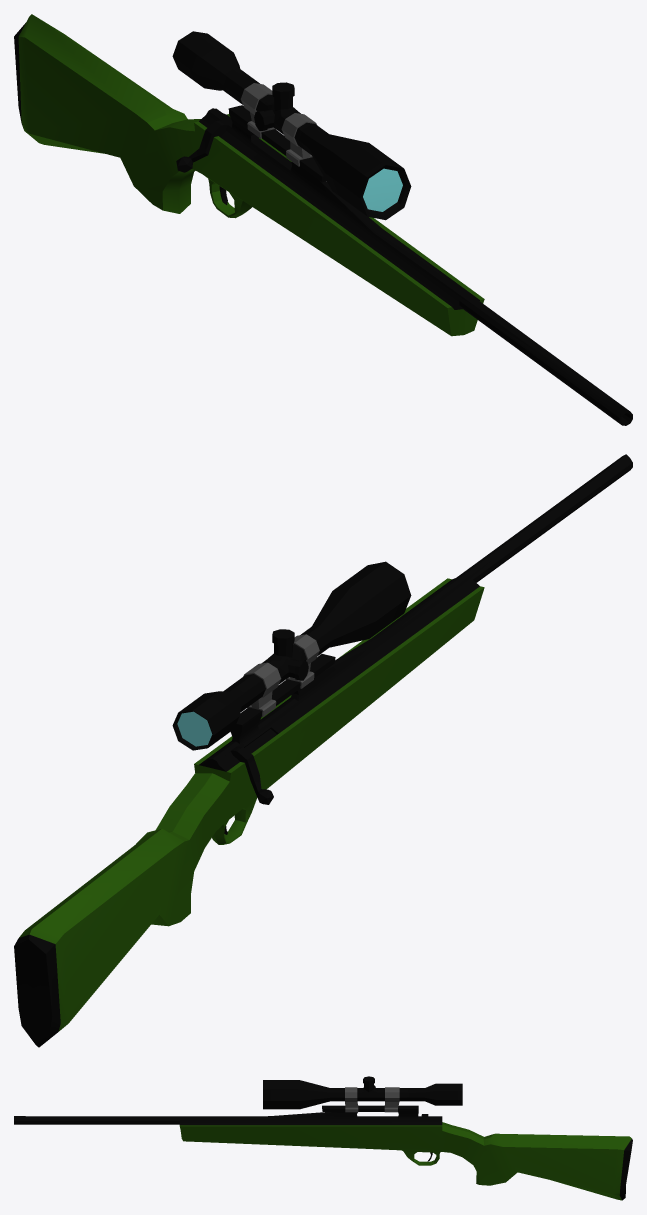
Rendered from lowpoly_sniper_rifle.glb.
3 views of the same model, one above another, from view 1: azimuth 30°, elevation 25°; view 2: azimuth 150°, elevation 25°; view 3: azimuth 270°, elevation 25° (orthographic). The views are drawn at different scales.
Visible parts, largest first — view 1: Cylinder_0; view 2: Cylinder_0; view 3: Cylinder_0.
Boxes of the visible parts, box(x1,y1,x2,y2) form: Cylinder_0: box(14, 14, 632, 425); Cylinder_0: box(14, 454, 632, 1047); Cylinder_0: box(14, 1076, 632, 1200).
Size of the model in its own units: 0.0574 by 0.1751 by 0.8073.
